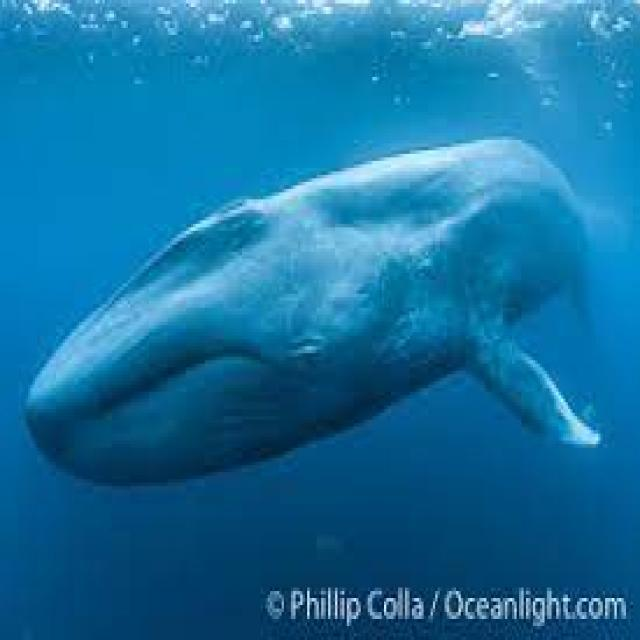blue_whale: (4, 109, 622, 486)
